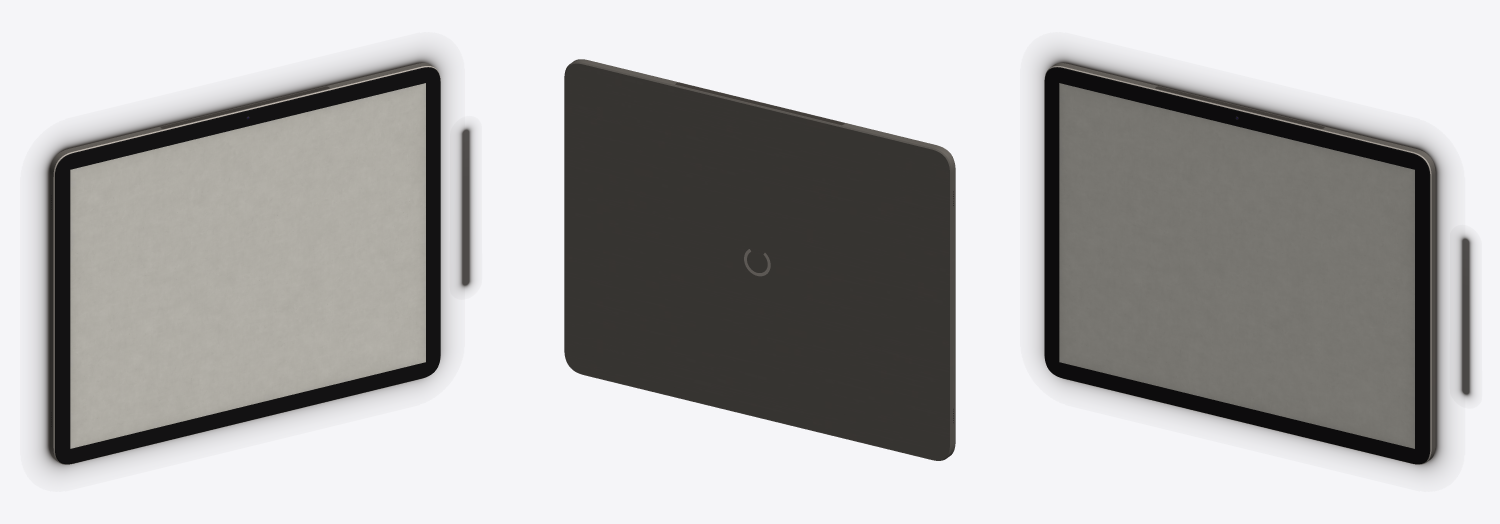
File: tablet.glb
3 views of the same model, side by side, from view 1: azimuth 30°, elevation 25°; view 2: azimuth 150°, elevation 25°; view 3: azimuth 330°, elevation 25° (orthographic).
Parts seen in each view (by area): view 1: WritingSurface, FrontGlass, DeskShadow, TabletBody, PenRestShadow, PenStrip; view 2: TabletBody, PenStrip; view 3: WritingSurface, FrontGlass, DeskShadow, TabletBody, PenRestShadow, PenStrip.
Boxes of the visible parts, bbox=[...] form: WritingSurface: bbox=[70, 83, 425, 448]; FrontGlass: bbox=[55, 67, 440, 464]; DeskShadow: bbox=[38, 51, 446, 472]; TabletBody: bbox=[49, 63, 440, 464]; PenRestShadow: bbox=[458, 125, 473, 290]; PenStrip: bbox=[160, 86, 329, 128]; TabletBody: bbox=[564, 59, 955, 460]; PenStrip: bbox=[675, 82, 844, 125]; WritingSurface: bbox=[1059, 83, 1414, 448]; FrontGlass: bbox=[1044, 67, 1430, 464]; DeskShadow: bbox=[1038, 51, 1446, 472]; TabletBody: bbox=[1044, 63, 1435, 464]; PenRestShadow: bbox=[1458, 234, 1473, 398]; PenStrip: bbox=[1155, 86, 1324, 128].
Bounding box in the file's own units: 0.477 × 0.372 × 0.00975.
Materials: 10 (4 with a texture image).
